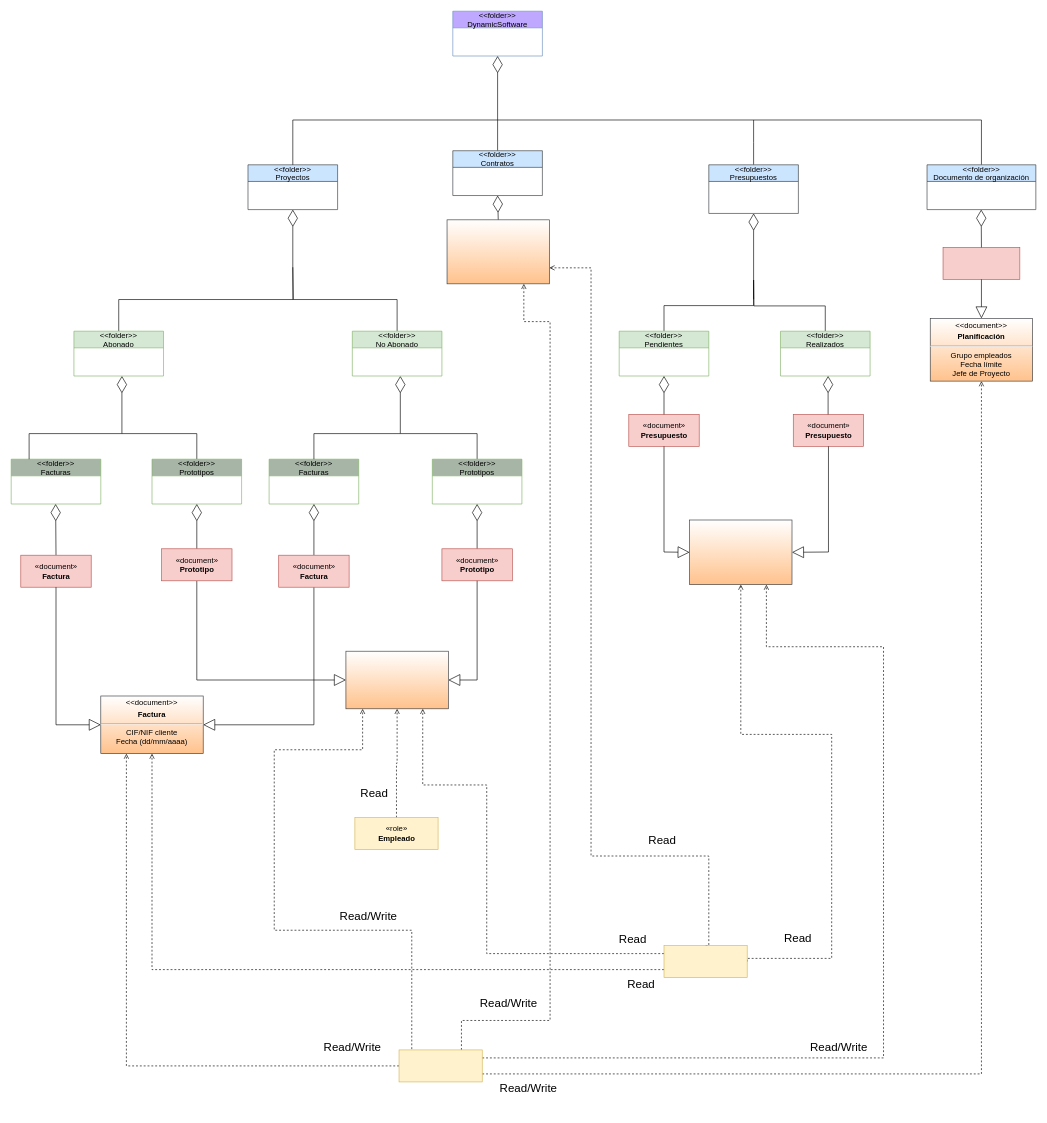
Some shapes in this 1047 by 1123 pixel diagram are drawn without their labels. Each missing label, with the centre of its shape:
"<<document>> Contrato Número de proyecto CIF/NIF cliente Fecha" belongs at [497,251].
"<<document>> Presupuesto CIF/NIF cliente tecnología principal Fecha" belongs at [740,552].
"<<document>> Prototipo tecnología principal Jefe de Proyecto" belongs at [396,680].
"«document» Planificación" belongs at [981,263].
"«role» Cliente" belongs at [705,961].
"«role» Jefe de Proyectos" belongs at [440,1065].
